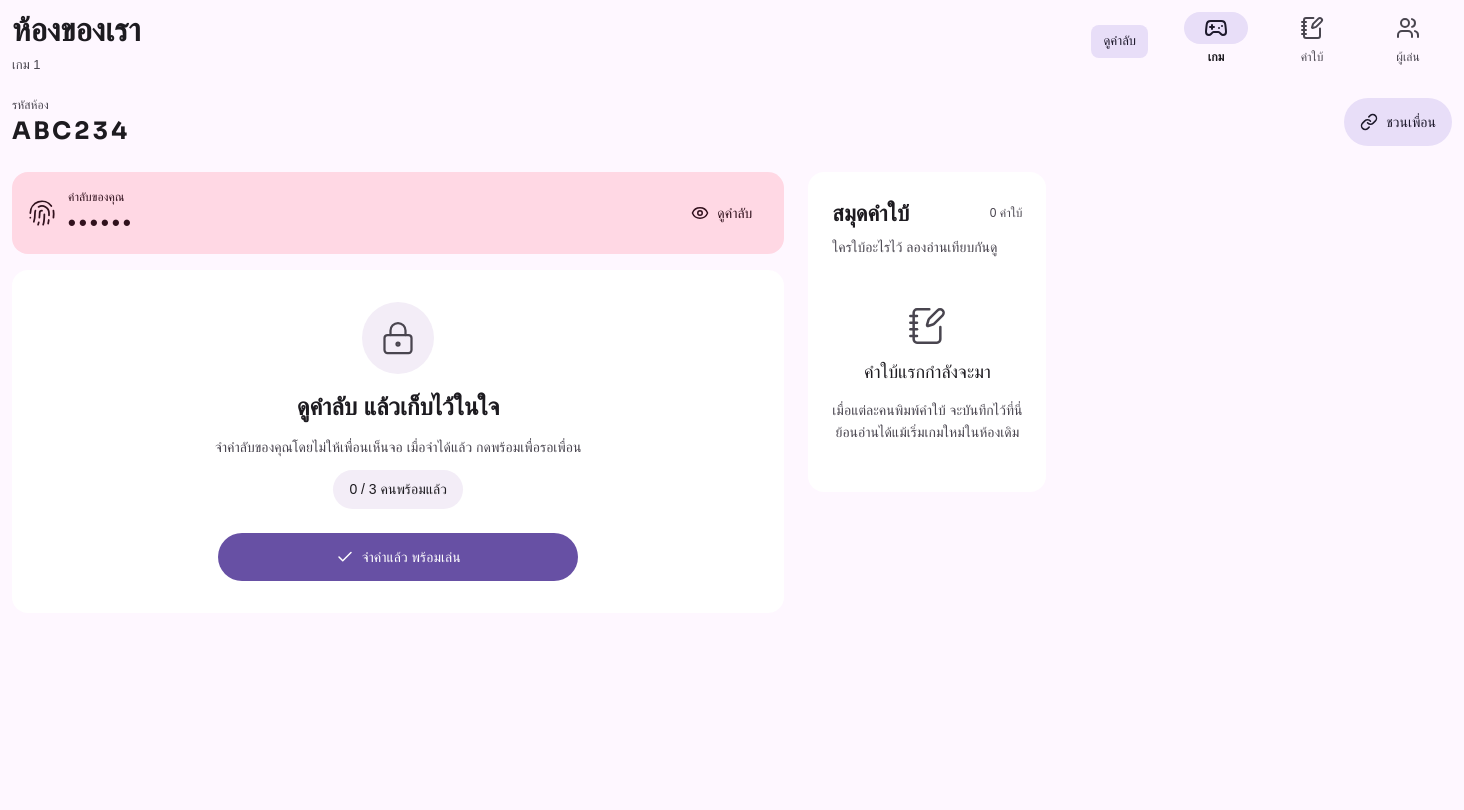
Test: returning from clue history requires revealing the private word again
Click the button "ดูคำลับ": (722, 213) [675,189,768,237]
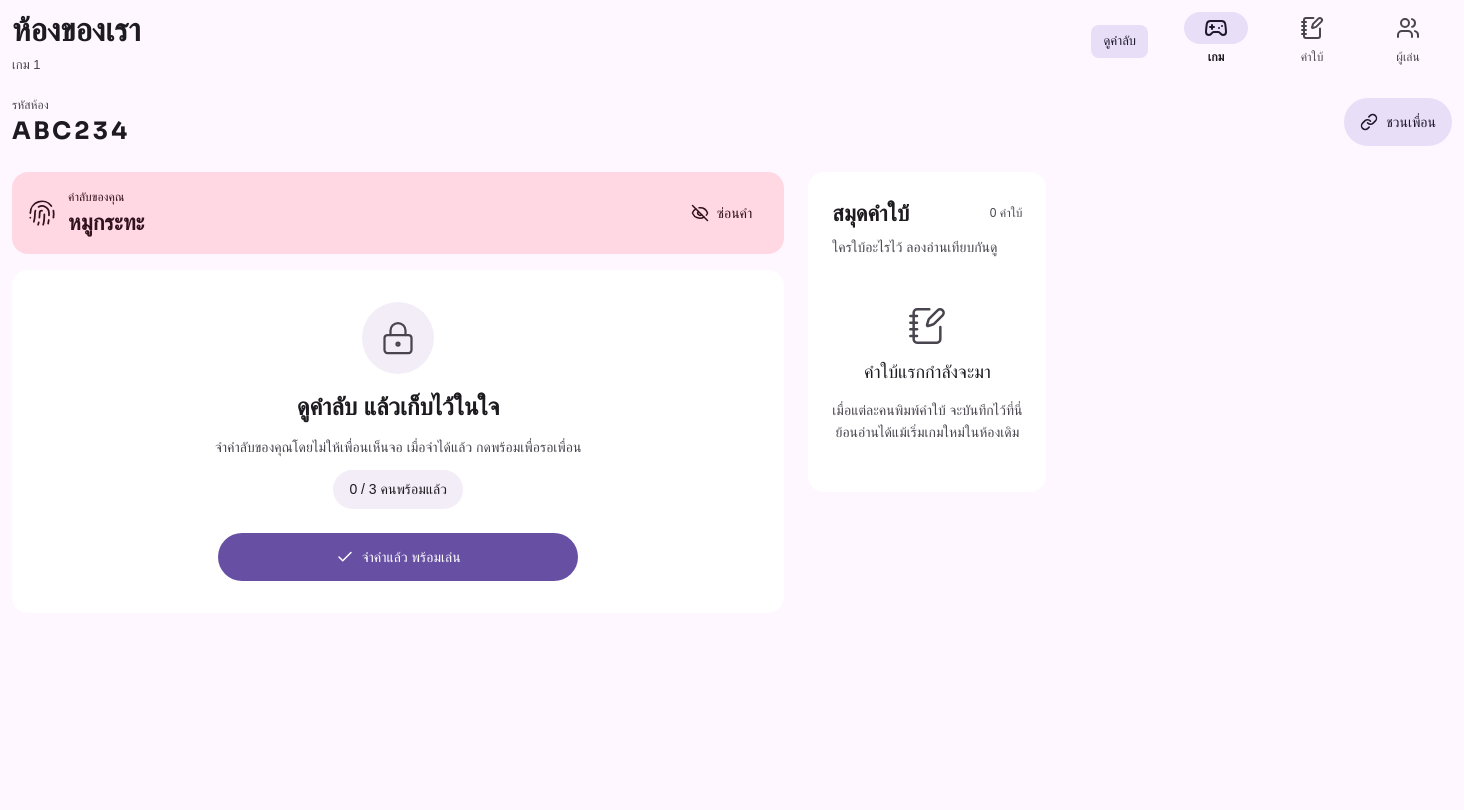
Click the button "คำใบ้": (1312, 50) [1268,8,1356,92]
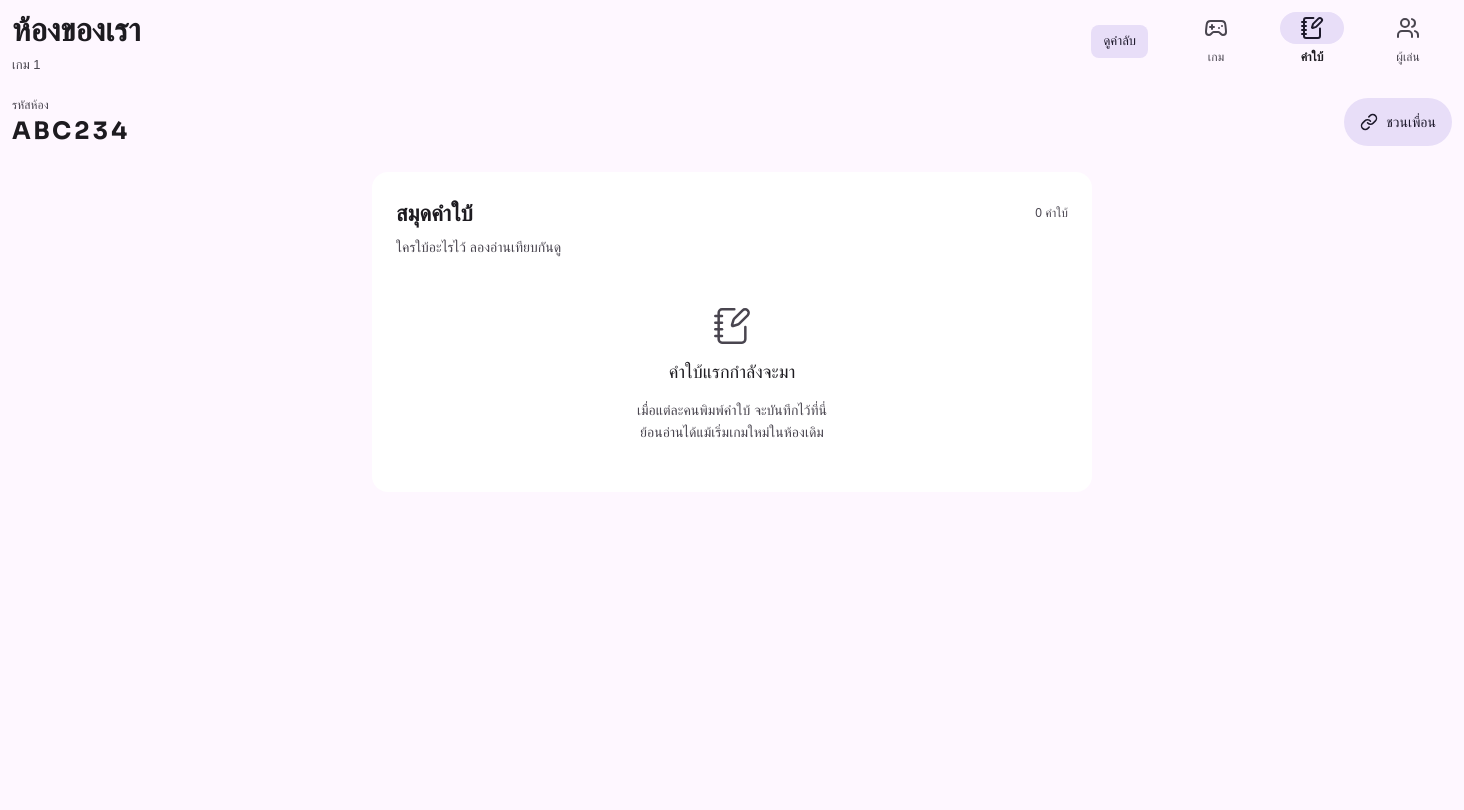
Check: the text "หมูกระทะ" is gone
Click the button "เกม": (1216, 50) [1172,8,1260,92]
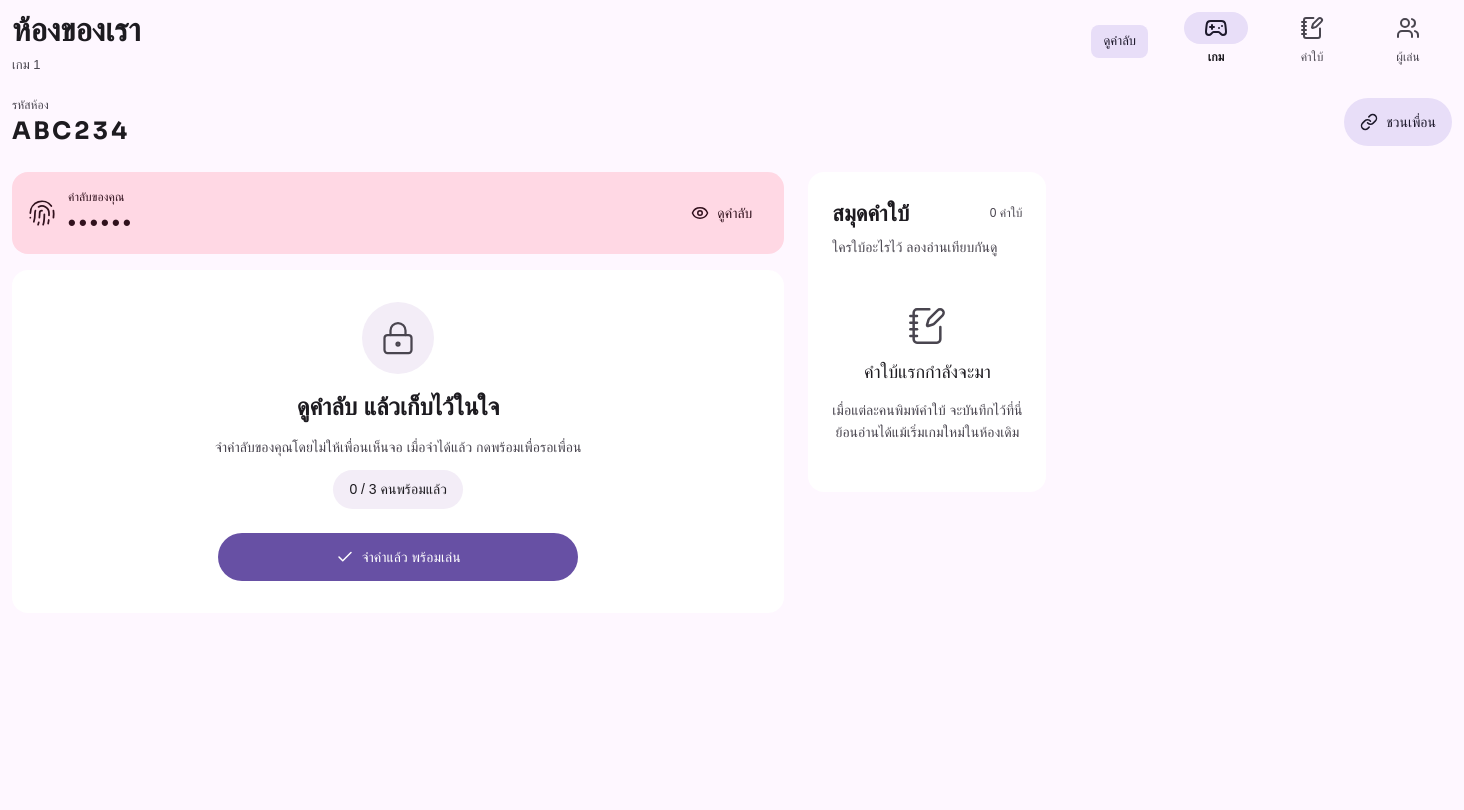
Check: the text "หมูกระทะ" is not shown
Check: the number of buttons "ดูคำลับ" is 1, box [675,189,768,237]
